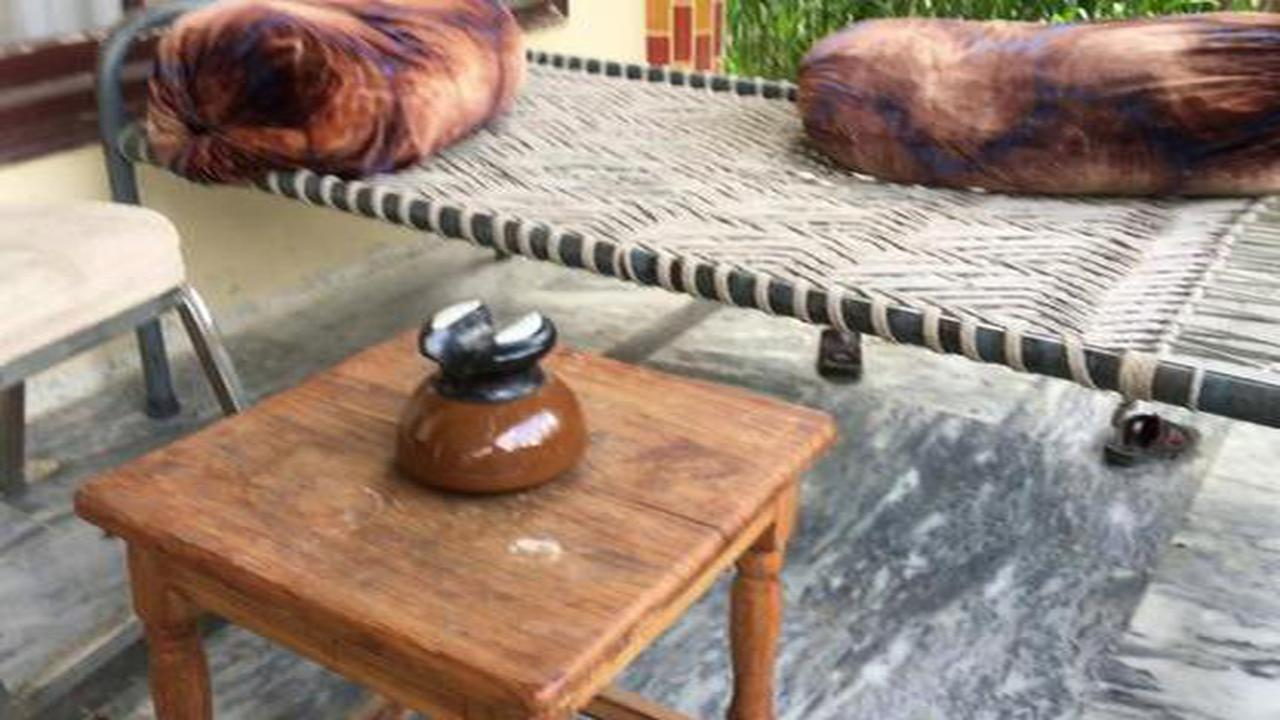insulator_pin: (382, 288, 601, 502)
